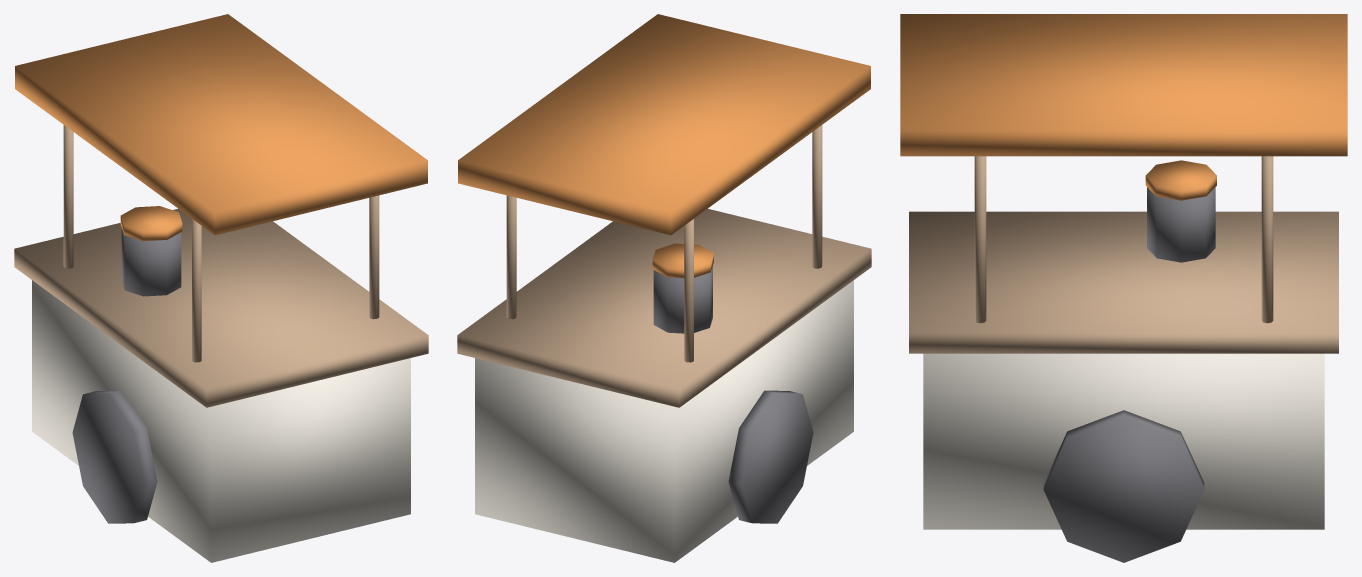
The model's file is coffee_cart.glb.
The picture shows the model from 3 angles, left to right: view 1: azimuth 30°, elevation 25°; view 2: azimuth 150°, elevation 25°; view 3: azimuth 270°, elevation 25°; orthographic projection. The views are drawn at different scales.
Visible parts, largest first — view 1: counter, canopy, wooden_table, wheel_l, coffee_pot, pot_lid, pole_fl, pole_rl, pole_rr; view 2: counter, canopy, wooden_table, wheel_l, coffee_pot, pole_rl, pot_lid, pole_fl, pole_fr; view 3: canopy, counter, wooden_table, wheel_r, coffee_pot, pot_lid, pole_fr, pole_rr.
Part boxes in pixels (x1,y1,x2,y2): counter: (32,280,410,562); canopy: (15,14,427,235); wooden_table: (14,208,428,407); wheel_l: (72,390,157,523); coffee_pot: (121,228,181,296); pot_lid: (120,206,182,241); pole_fl: (63,125,73,268); pole_rl: (192,219,201,362); pole_rr: (369,195,379,319); counter: (475,280,853,562); canopy: (458,14,870,235); wooden_table: (457,208,871,407); wheel_l: (728,390,813,523); coffee_pot: (653,266,712,333); pole_rl: (812,125,822,268); pot_lid: (652,243,713,278); pole_fl: (684,219,693,362); pole_fr: (506,195,516,319); canopy: (900,14,1347,156); counter: (923,353,1324,529); wooden_table: (909,211,1338,353); wheel_r: (1043,410,1204,562); coffee_pot: (1147,187,1215,262); pot_lid: (1145,160,1216,200); pole_fr: (1261,156,1273,323); pole_rr: (974,156,986,323).
Bounding box in the file's own units: 0.51 × 0.825 × 0.78.
